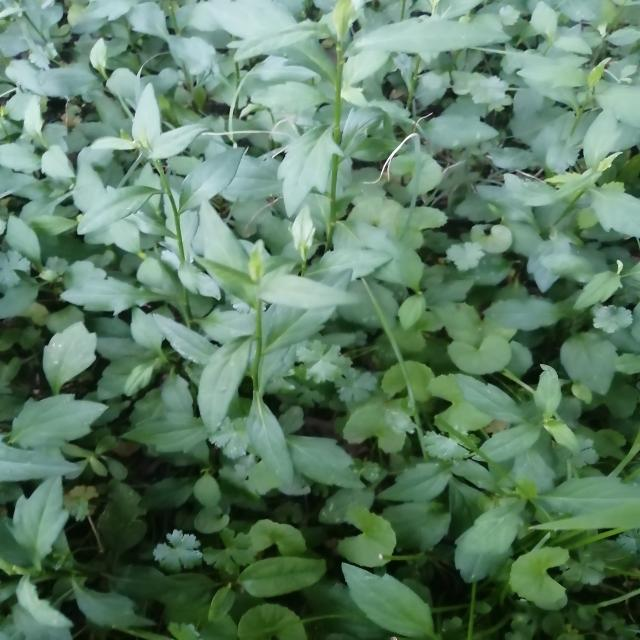Indian aster: (155, 234, 379, 507), (229, 0, 454, 221)
